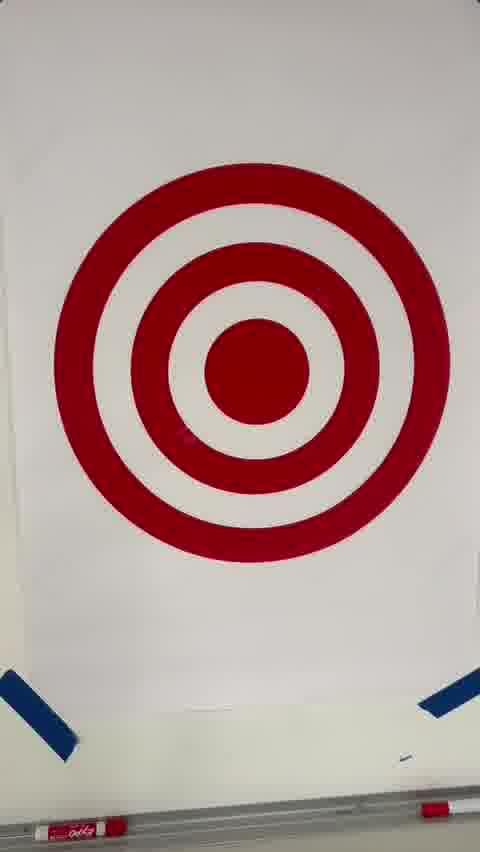target_red: (51, 160, 450, 568)
